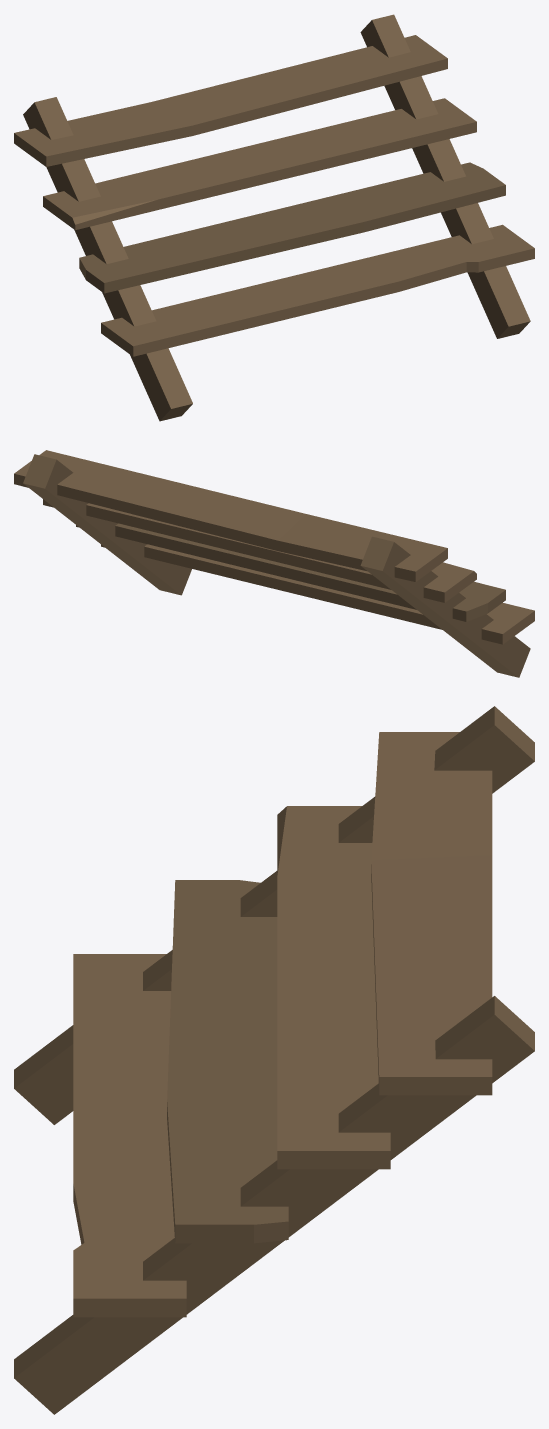
The model's file is SM_Props_City_Beach_Pier_Steps.fbx.
3 views of the same model, one above another, from view 1: azimuth 30°, elevation 25°; view 2: azimuth 150°, elevation 25°; view 3: azimuth 270°, elevation 25° (orthographic). The views are drawn at different scales.
Parts seen in each view (by area): view 1: SM_Props_City_Beach_Pier_Steps; view 2: SM_Props_City_Beach_Pier_Steps; view 3: SM_Props_City_Beach_Pier_Steps.
Boxes of the visible parts, x1,y1,x2,y2 form: SM_Props_City_Beach_Pier_Steps: (14, 14, 534, 421); SM_Props_City_Beach_Pier_Steps: (14, 450, 534, 677); SM_Props_City_Beach_Pier_Steps: (14, 706, 534, 1414).
Size of the model in its own units: 200 by 108 by 128.
